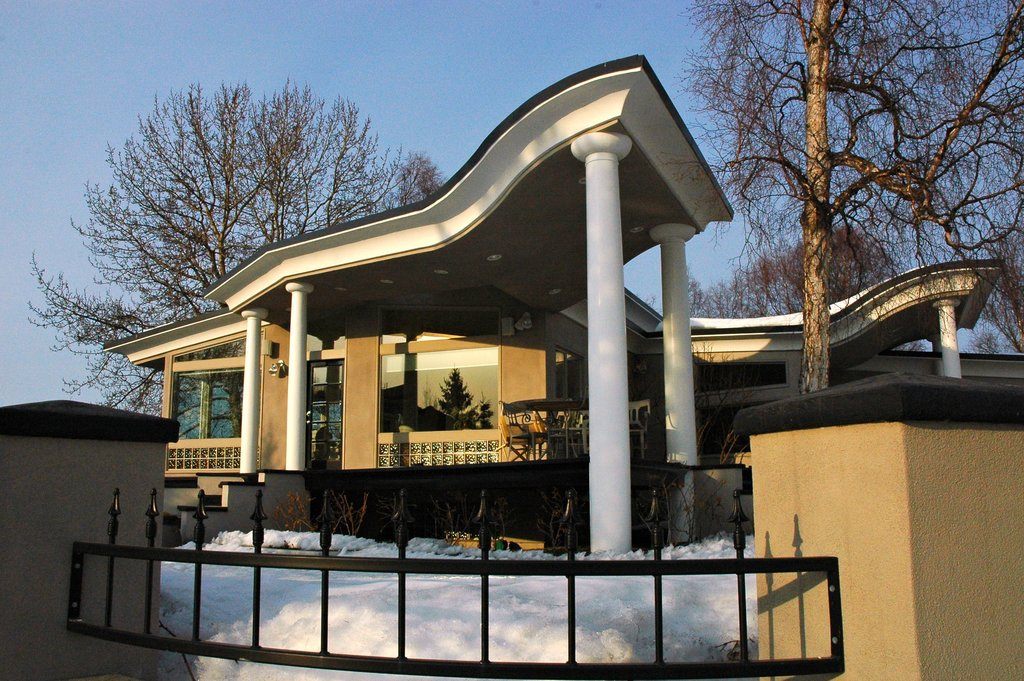Tree: (23, 67, 449, 413), (693, 30, 999, 391), (700, 209, 892, 316)
